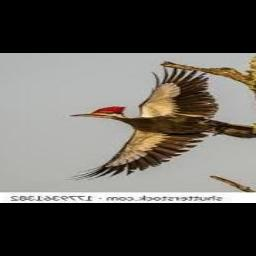Woodpecker: (65, 66, 256, 182)
